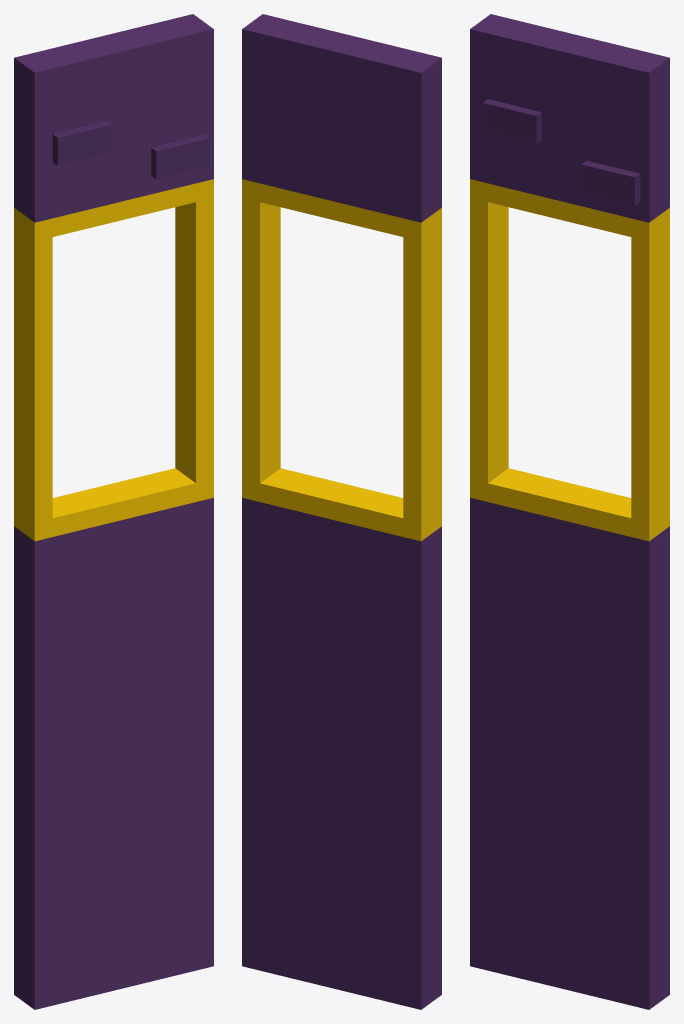
File: door1.obj
3 views of the same model, side by side, from view 1: azimuth 30°, elevation 25°; view 2: azimuth 150°, elevation 25°; view 3: azimuth 330°, elevation 25° (orthographic).
Bounding box in the file's own units: 2 × 10 × 0.5.
Materials: 1 (1 with a texture image).
